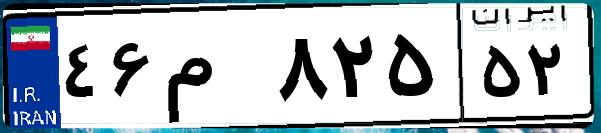2: (330, 28, 385, 110), (525, 38, 570, 115)
4: (57, 26, 110, 100)
5: (385, 28, 445, 110), (475, 38, 525, 113)
6: (110, 28, 158, 98)
8: (270, 28, 330, 110)
م: (158, 20, 270, 120)
